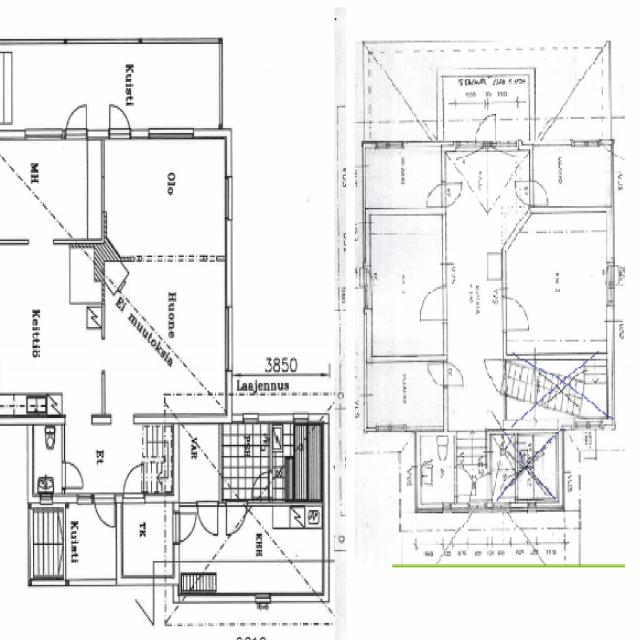door: (420, 288, 446, 320), (475, 112, 496, 151), (66, 100, 86, 140), (94, 494, 115, 532), (123, 464, 144, 502), (110, 100, 130, 139), (173, 513, 199, 543), (502, 298, 527, 329), (198, 501, 217, 534), (454, 467, 476, 495), (227, 502, 246, 534), (484, 362, 506, 389), (251, 472, 273, 498), (424, 181, 446, 205), (469, 474, 490, 499), (441, 181, 462, 205), (62, 464, 82, 488), (513, 180, 533, 202), (529, 180, 549, 202), (441, 365, 461, 386), (426, 365, 446, 386)
